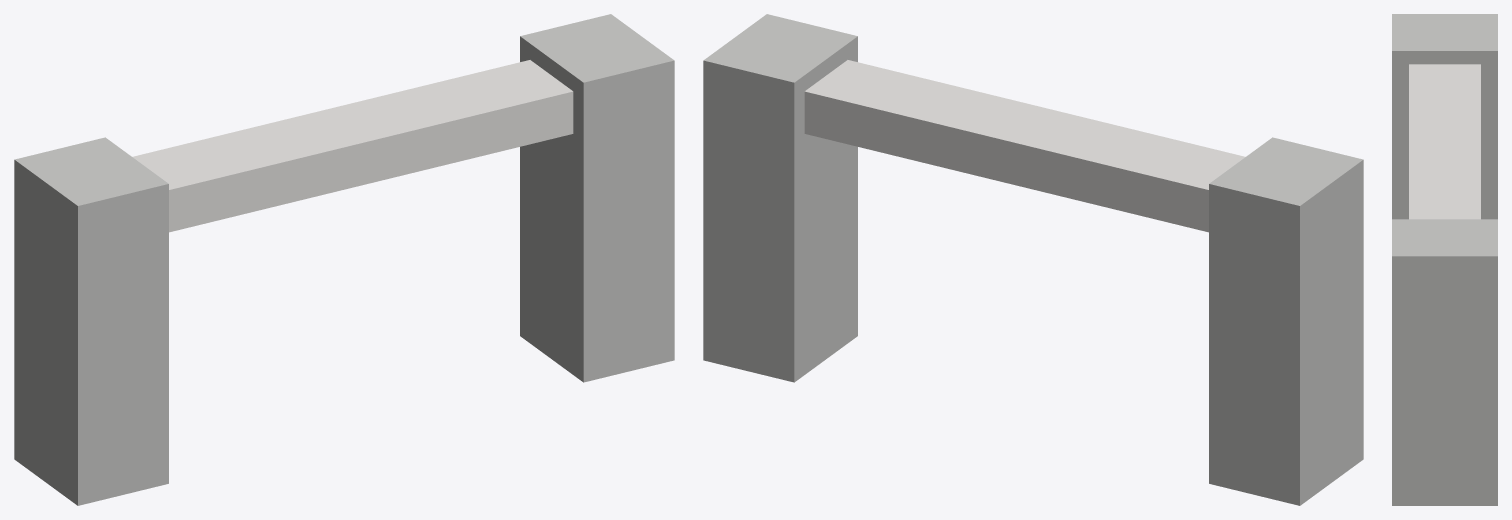
File: SM_Fence_02_B.fbx
3 renders of one model, left to right at view 1: azimuth 30°, elevation 25°; view 2: azimuth 150°, elevation 25°; view 3: azimuth 270°, elevation 25°, orthographic. The views are drawn at different scales.
Visible parts, largest first — view 1: polySurface61; view 2: polySurface61; view 3: polySurface61.
Part boxes in pixels (box(x1,y1,x2,y2)): polySurface61: box(14, 14, 674, 505); polySurface61: box(703, 14, 1363, 505); polySurface61: box(1392, 14, 1497, 505).
Size of the model in its own units: 118 by 56.68 by 21.77.
1 material, 1 textured.
